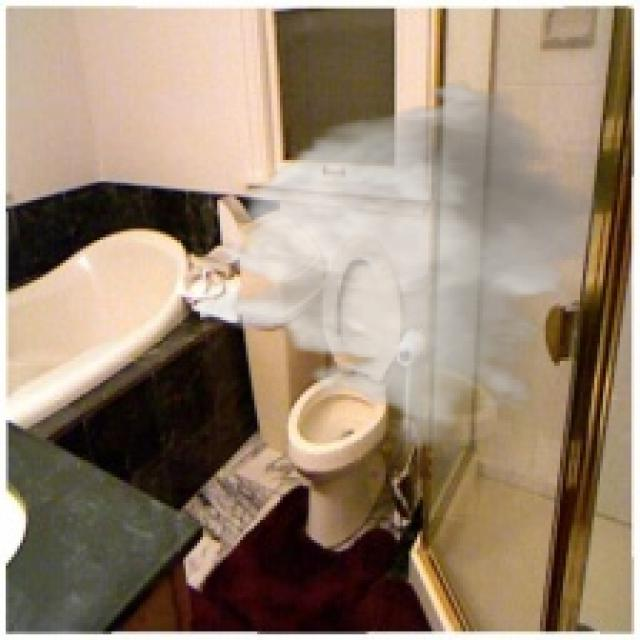smoke: (194, 77, 612, 449)
